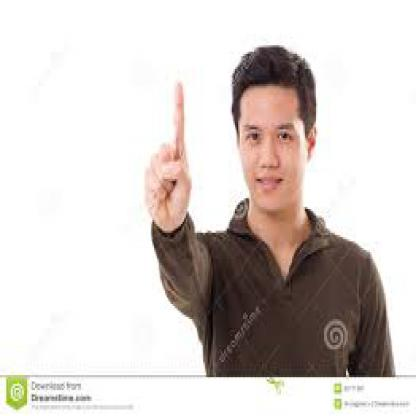Up: (138, 77, 203, 252)
